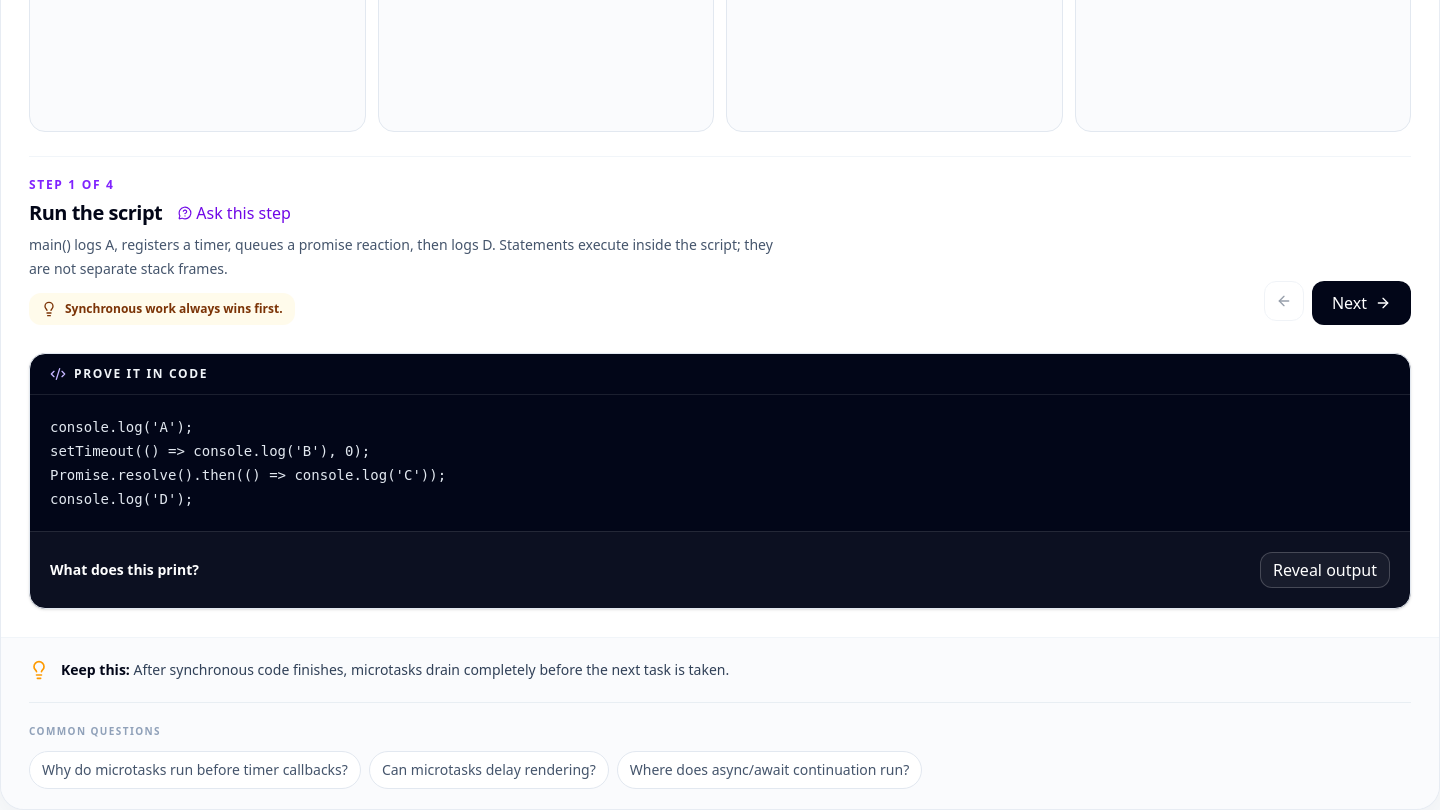
Test: AskPopover › auto-submits a seeded common question exactly once in Strict Mode
The image size is (1440, 810).
(page scrolled)
Click the button "Why do microtasks run before timer callbacks?" at (195, 770), box [29,751,361,789]
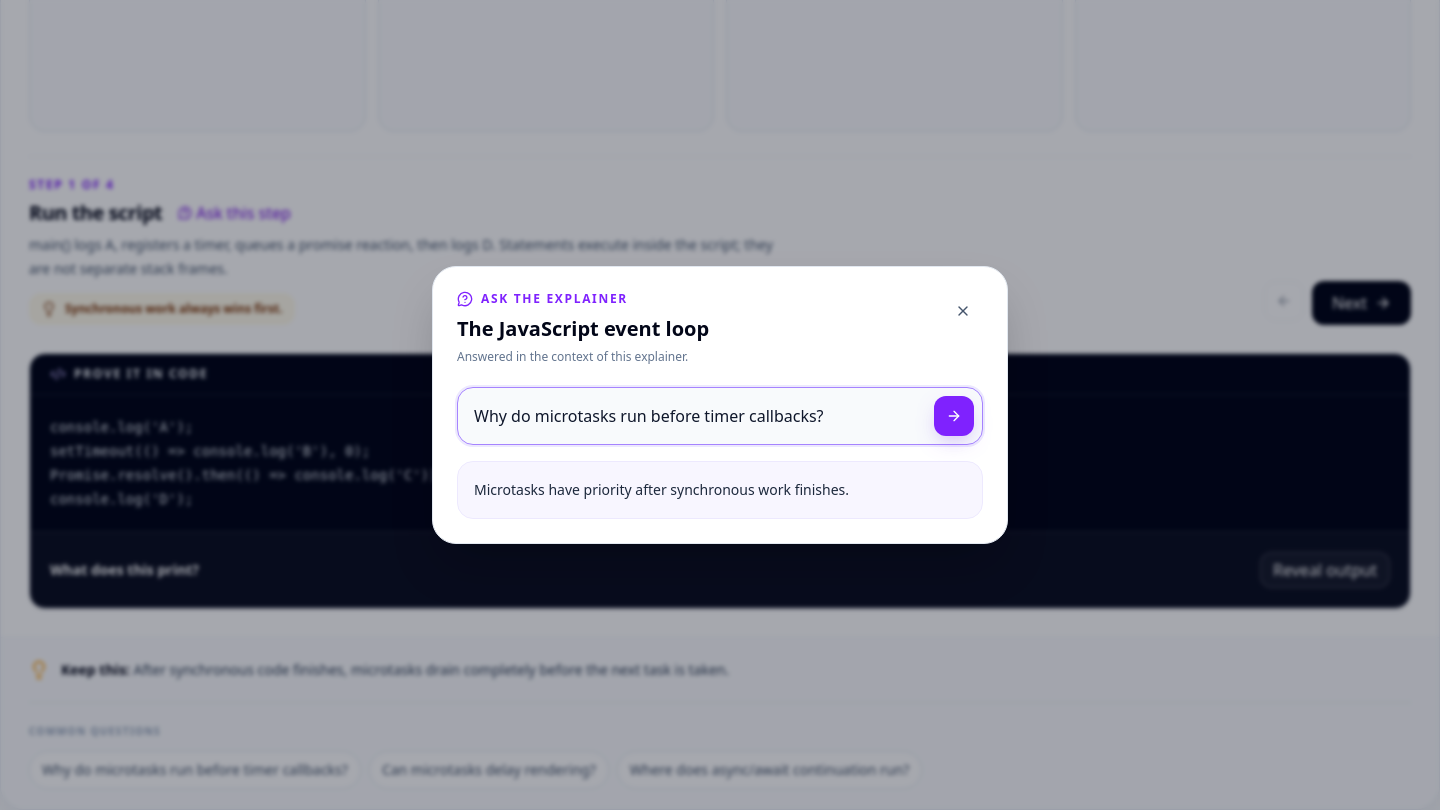
Result: the dialog is shown at [432,266,1008,544]
Result: the field named "Your question" holds "Why do microtasks run before timer callbacks?" at [466,396,926,436]
Result: the text "Answered in the context of this explainer." is shown at [457,347,709,367]
